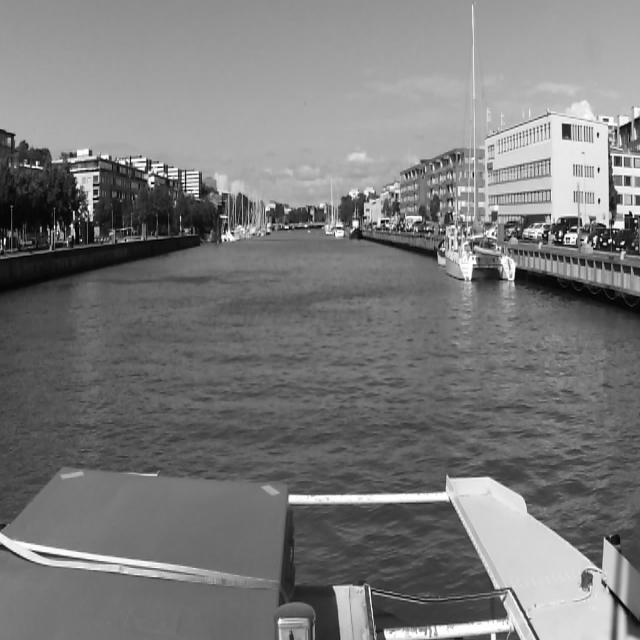ship: (446, 8, 516, 284), (217, 193, 241, 244), (324, 166, 338, 239), (349, 211, 361, 241), (334, 219, 344, 238)
